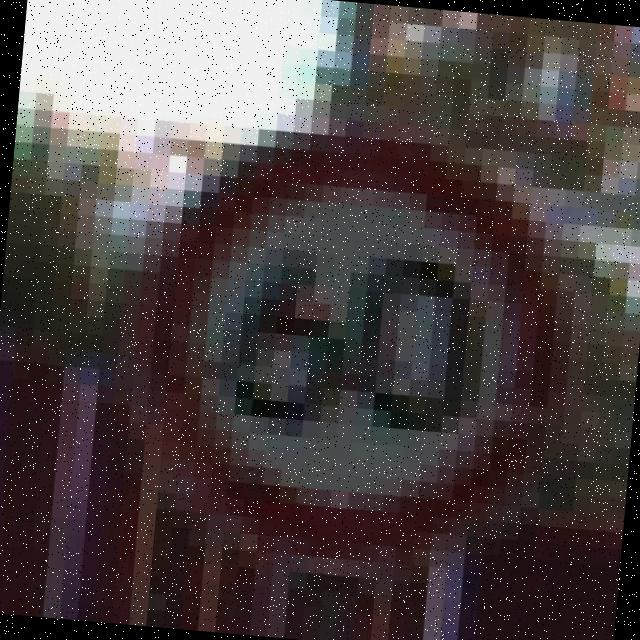Ograniczenie predkosci do 60: (32, 67, 640, 635)
